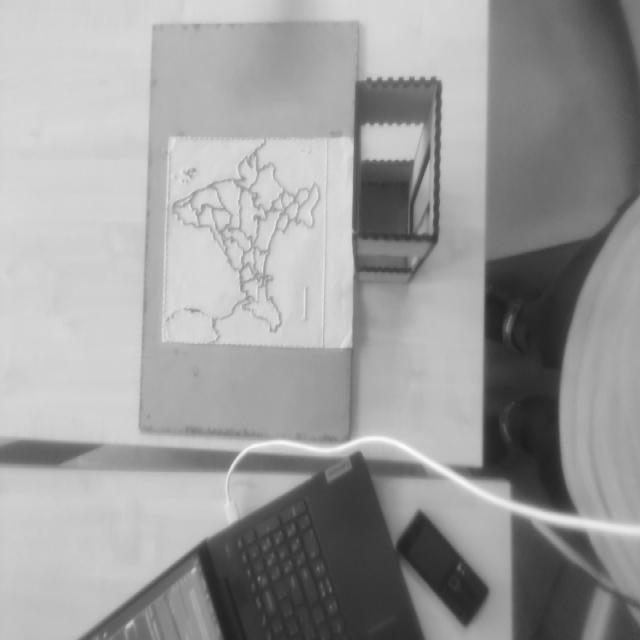map: (162, 135, 328, 348)
